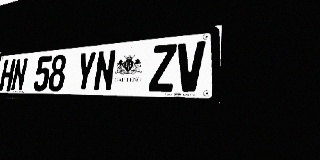5: (33, 55, 52, 91)
8: (47, 54, 68, 91)
H: (0, 59, 16, 91)
N: (93, 49, 117, 91), (10, 58, 28, 91)
V: (175, 41, 206, 92)
Y: (74, 51, 97, 91)
Z: (149, 43, 177, 92)
